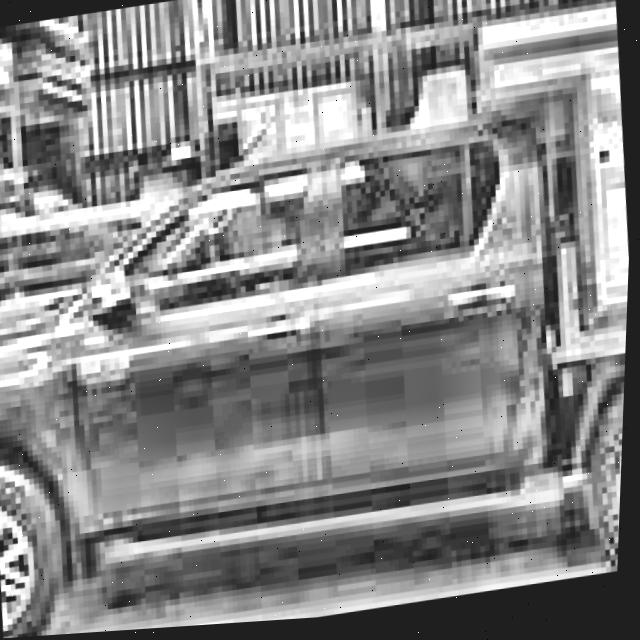light_vehicle: (0, 13, 639, 640)
